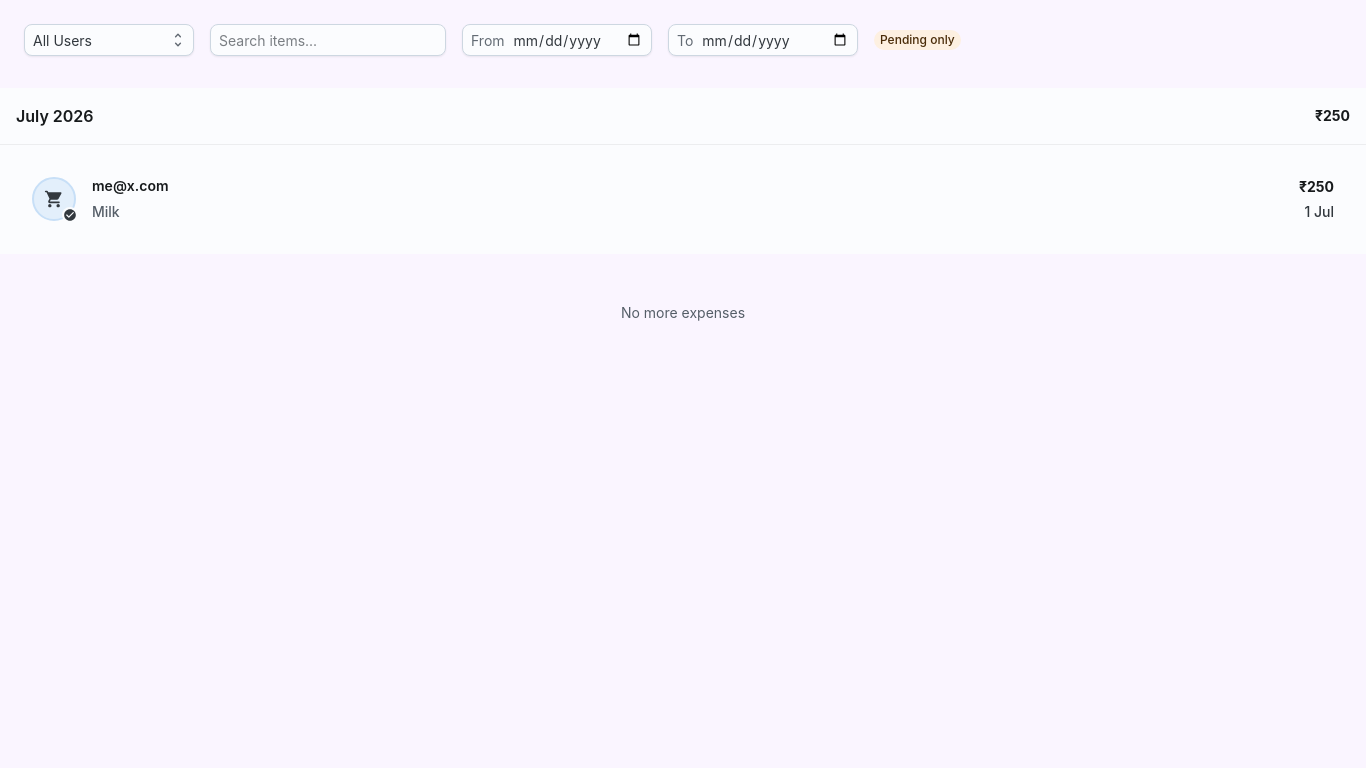
Test: ExpenseHistory - expense detail popup › opens the detail modal with participant breakdown when an expense card is clicked
Click the text "Milk": (106, 212) [92,201,120,222]
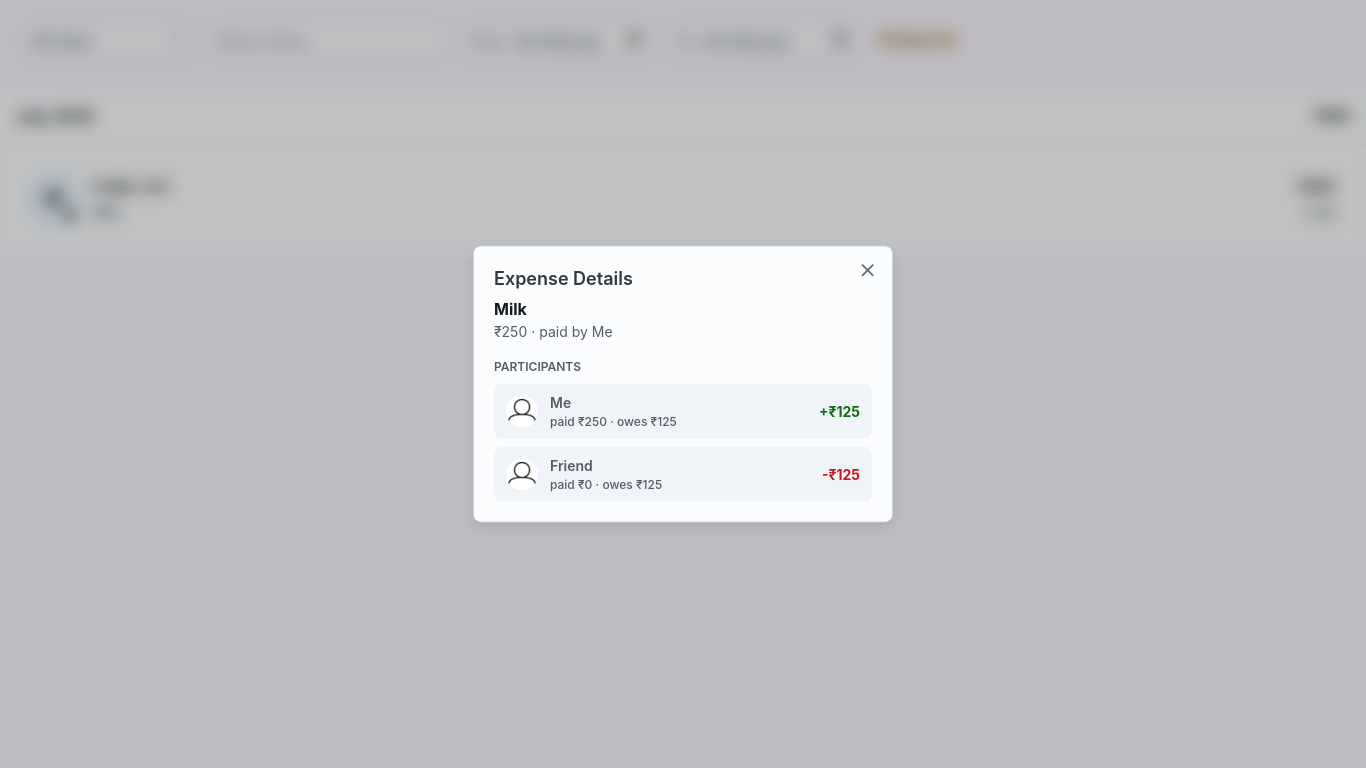
Expected: the heading "Expense Details" is shown, [494,268,633,288]
Expected: the text "Participants" is shown, [494,358,581,374]
Expected: the text "Friend" is shown, [550,456,593,474]
